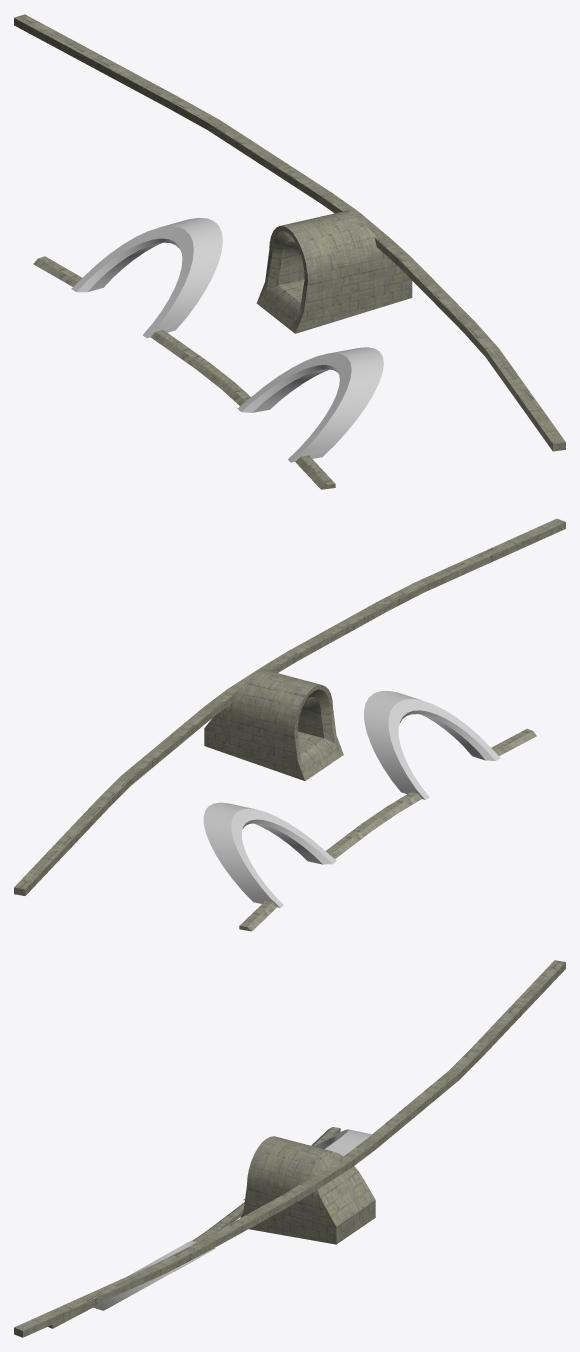
Rendered from SM_Corridor_07_00.fbx.
3 renders of one model, top to bottom at view 1: azimuth 30°, elevation 25°; view 2: azimuth 150°, elevation 25°; view 3: azimuth 330°, elevation 25°, orthographic. The views are drawn at different scales.
Parts seen in each view (by area): view 1: SM_Corridor_07_00; view 2: SM_Corridor_07_00; view 3: SM_Corridor_07_00.
Part boxes in pixels (x1,y1,x2,y2): SM_Corridor_07_00: (14,14,565,489); SM_Corridor_07_00: (14,518,565,931); SM_Corridor_07_00: (14,960,565,1337).
Bounding box in the file's own units: 1999 × 1187 × 9385.
